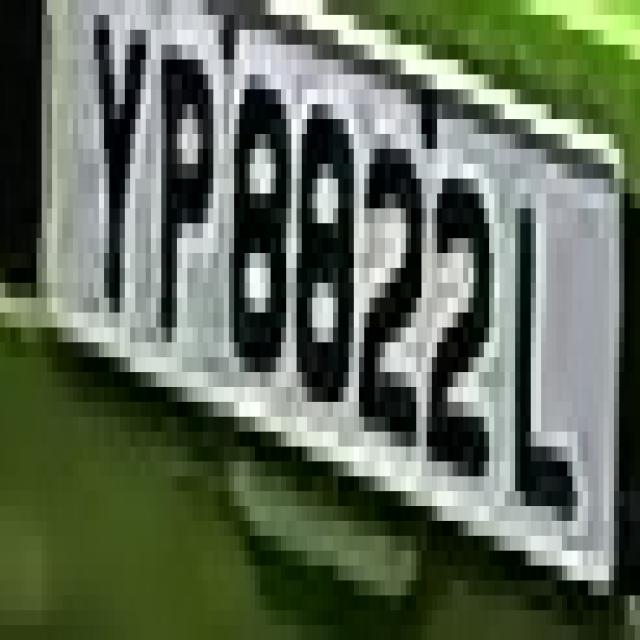2: (354, 74, 421, 477), (432, 134, 499, 521)
8: (286, 104, 370, 462), (224, 30, 296, 417)
L: (510, 134, 593, 580)
P: (151, 30, 224, 372)
Y: (88, 0, 161, 327)
